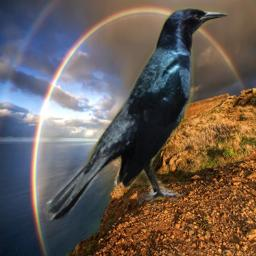Crow: (43, 5, 230, 223)
